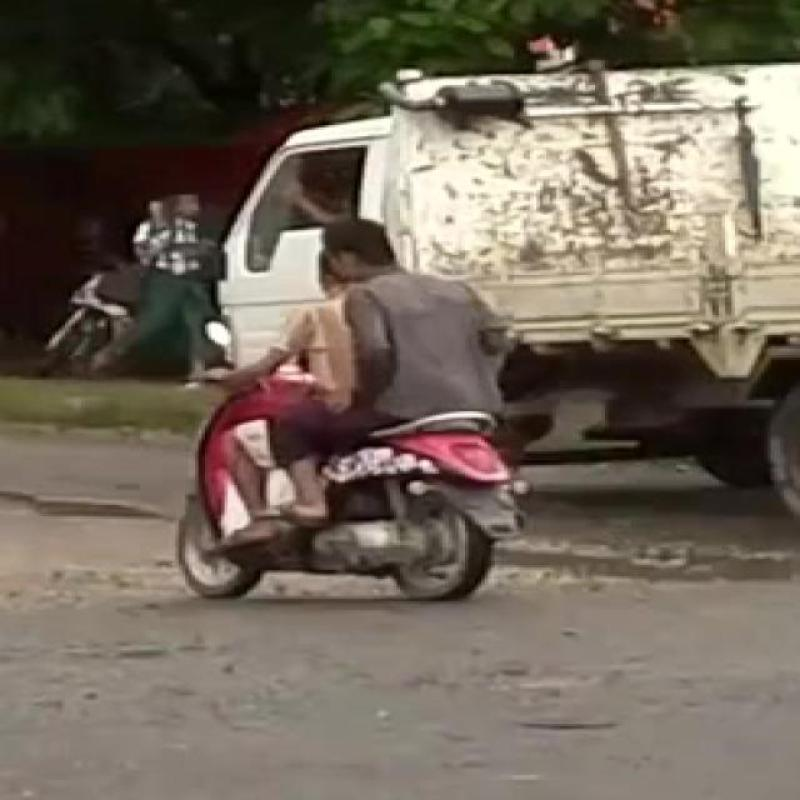nohelmet: (304, 209, 410, 316)
